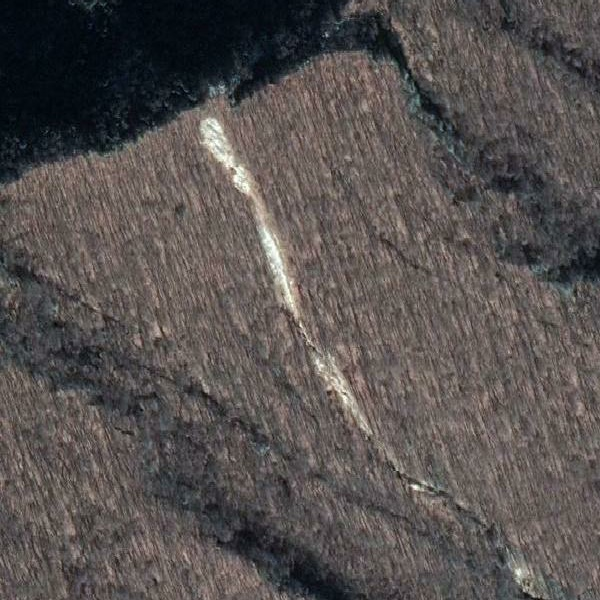slope: (193, 115, 300, 323)
